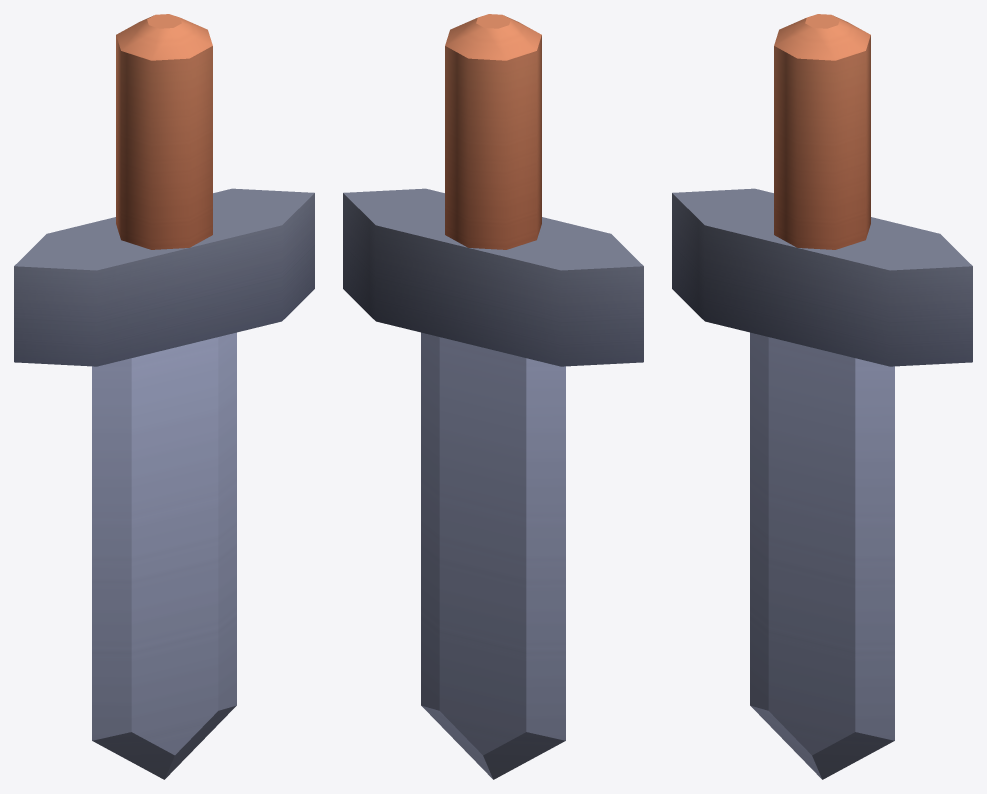
Rendered from weapon-sword.obj.
The picture shows the model from 3 angles, left to right: view 1: azimuth 30°, elevation 25°; view 2: azimuth 150°, elevation 25°; view 3: azimuth 330°, elevation 25°; orthographic projection.
Parts seen in each view (by area): view 1: weapon-sword; view 2: weapon-sword; view 3: weapon-sword.
Part boxes in pixels (x1=…): weapon-sword: x1=14, y1=14, x2=314, y2=779; weapon-sword: x1=343, y1=14, x2=643, y2=779; weapon-sword: x1=672, y1=14, x2=972, y2=779.
Bounding box in the file's own units: 0.208 × 0.501 × 0.06.
Materials: 1 (1 with a texture image).
